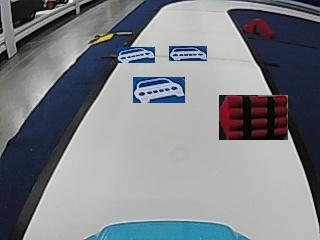bridge: (243, 17, 273, 37)
